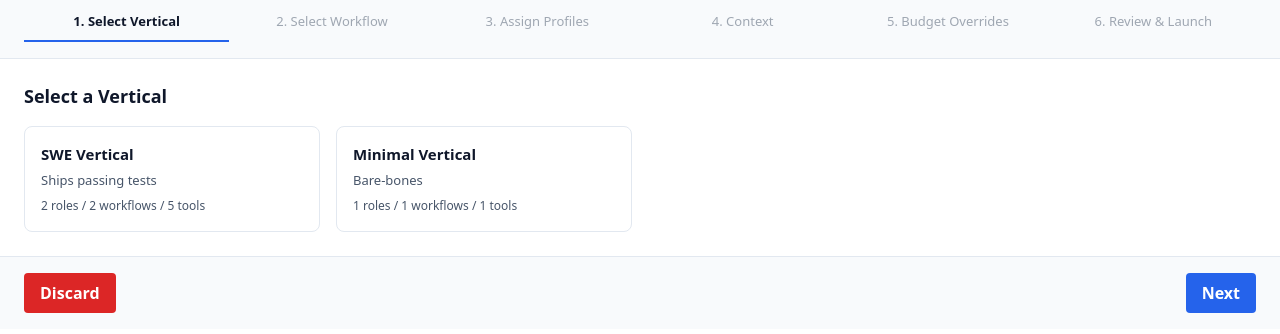
Scenario: Wizard step 2 — Select Workflow › clicking a workflow card enables Next
Click the text "SWE Vertical": (87, 154) [41,144,134,164]
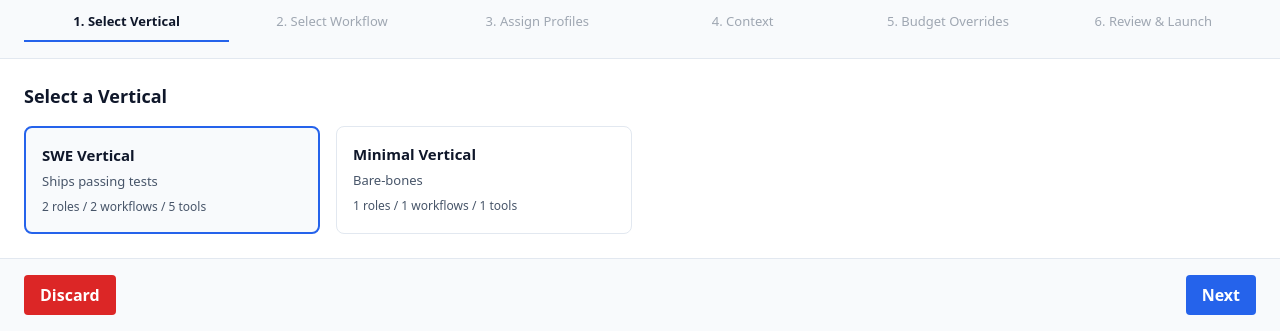
Click the button "Next": (1221, 295) [1186,275,1256,315]
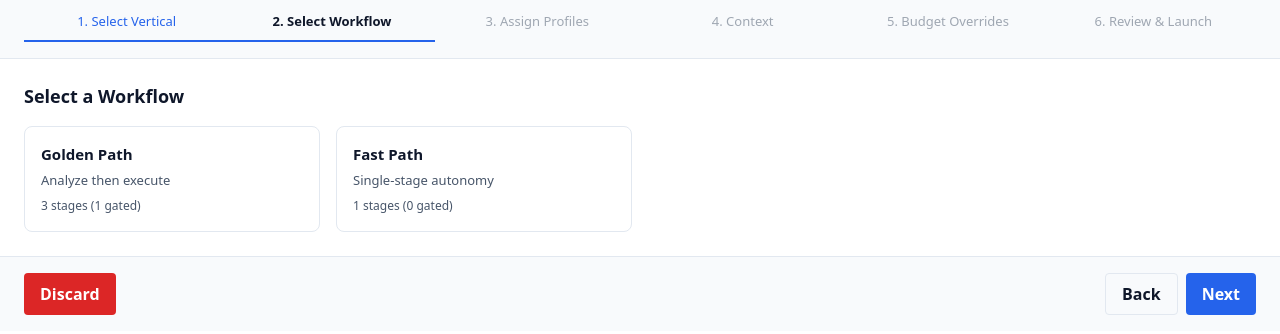
Check: the heading "Select a Workflow" is shown, box [24,84,184,108]
Click the text "Golden Path": (87, 154) [41,144,133,164]
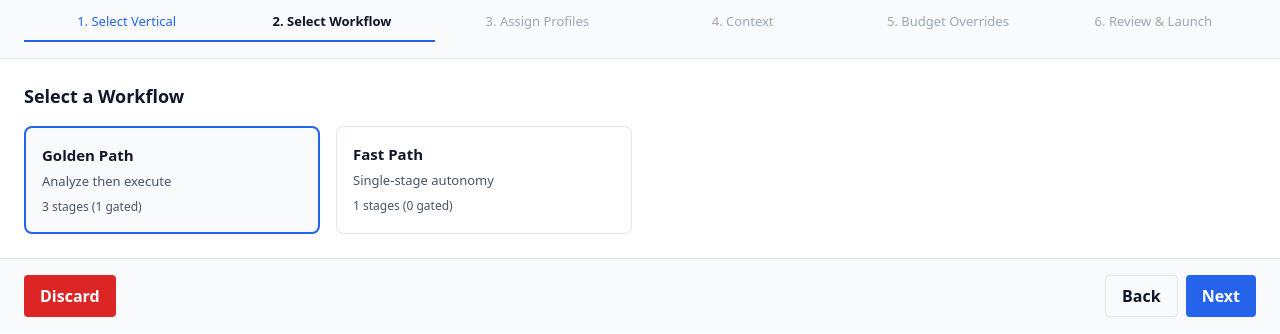
Check: the button "Next" is enabled, box [1186,275,1256,317]
